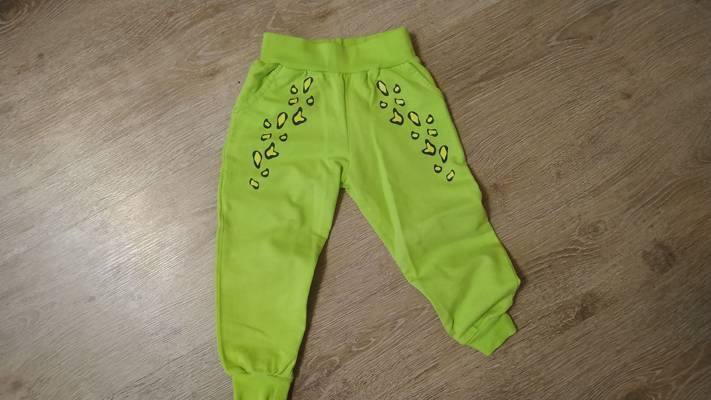Pants: (180, 12, 527, 400)
